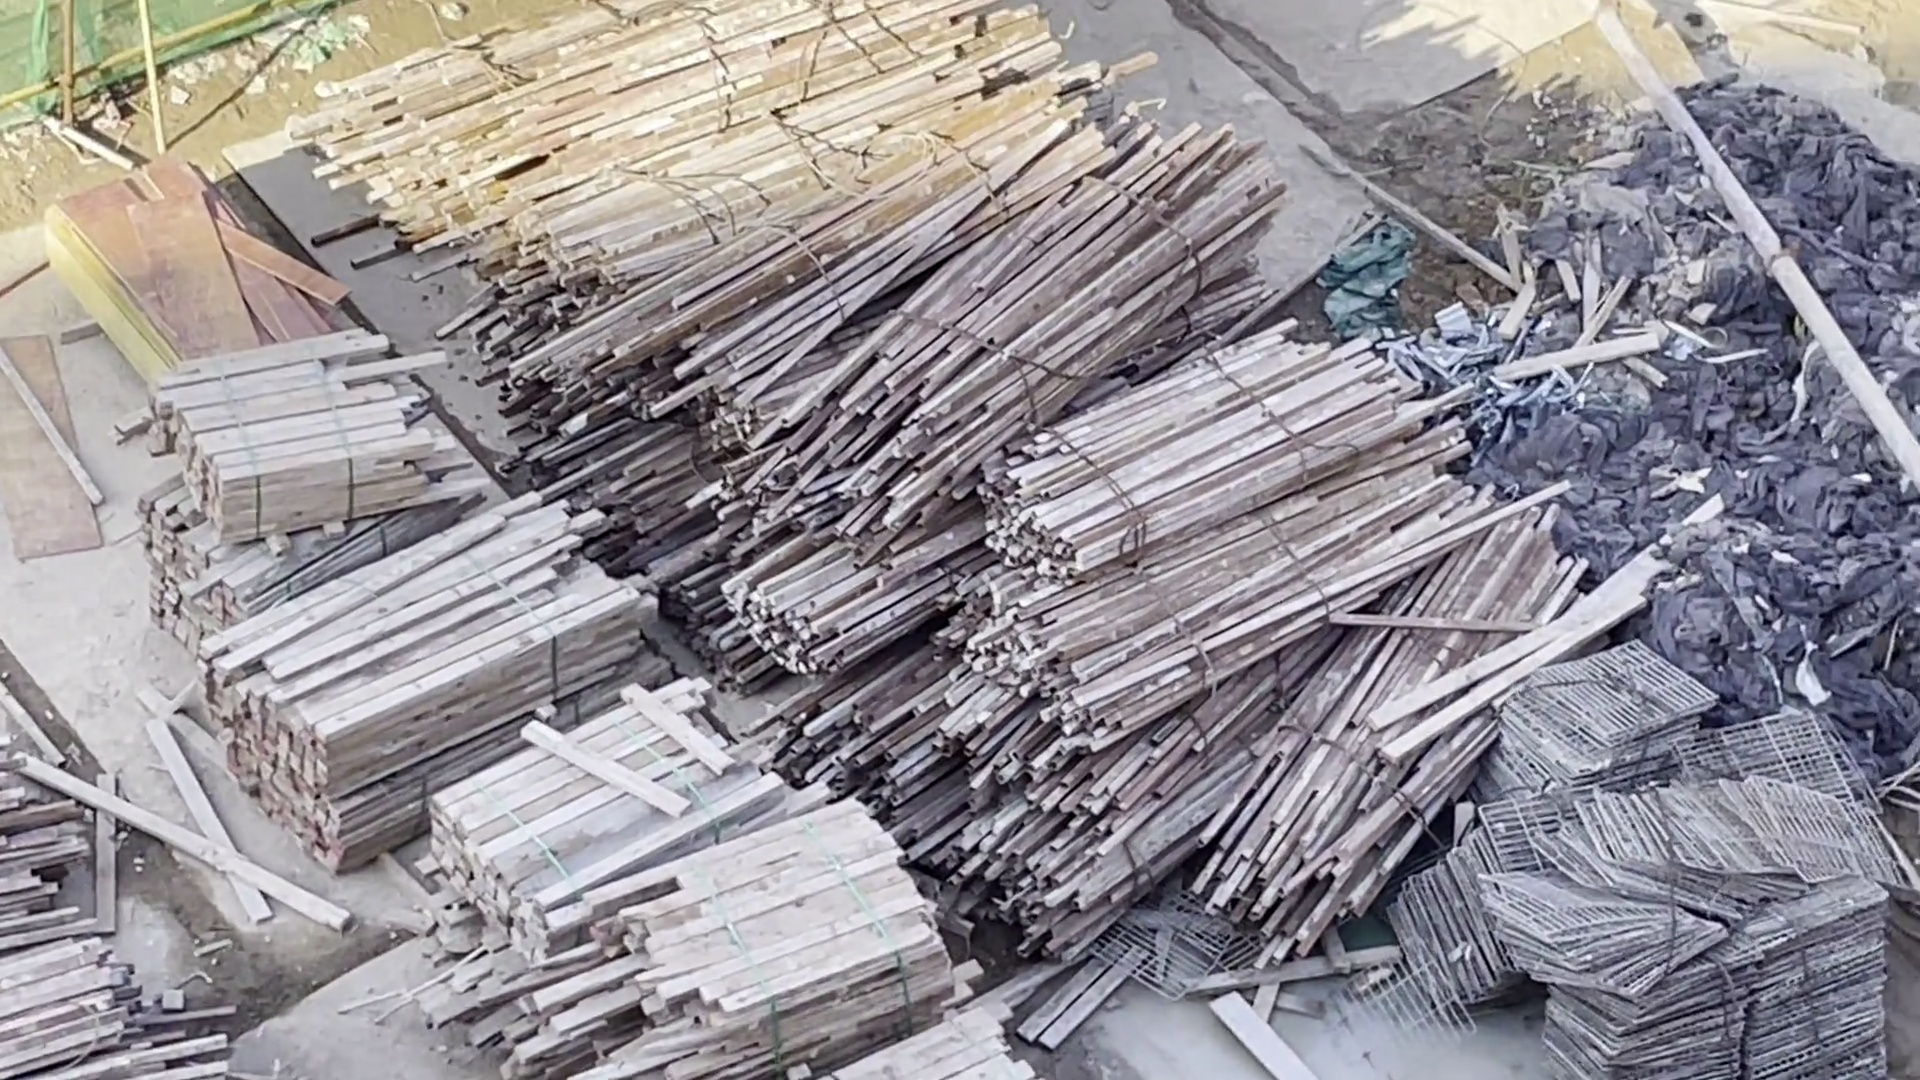board: (73, 174, 306, 363)
wood: (737, 153, 1292, 535), (436, 65, 1033, 266), (301, 1, 1058, 149), (231, 542, 607, 839), (531, 823, 942, 1064), (990, 502, 1487, 694), (1263, 553, 1539, 884), (438, 699, 742, 945), (986, 731, 1319, 901), (1039, 384, 1389, 527), (171, 364, 463, 492), (733, 529, 975, 680), (1, 955, 220, 1077), (138, 505, 268, 650), (828, 1010, 1036, 1079), (1, 738, 88, 899)
